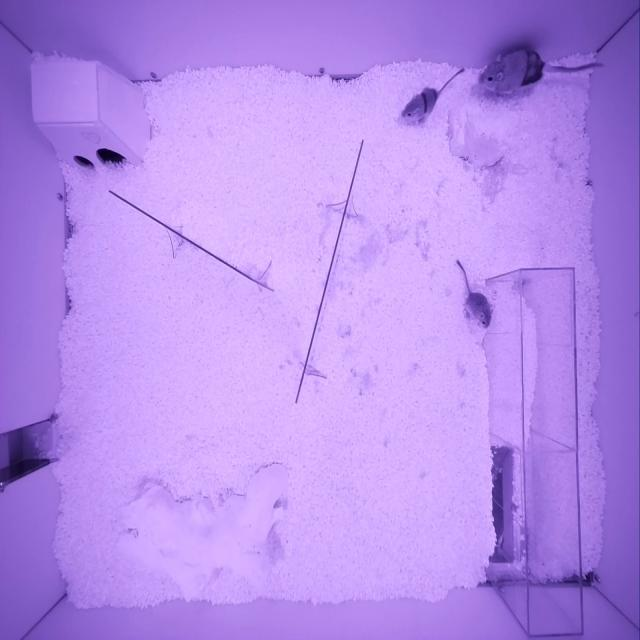adult_back: (479, 50, 547, 95)
pup_fluffy: (465, 292, 494, 329)
pup_h_stripe: (400, 88, 438, 125)
